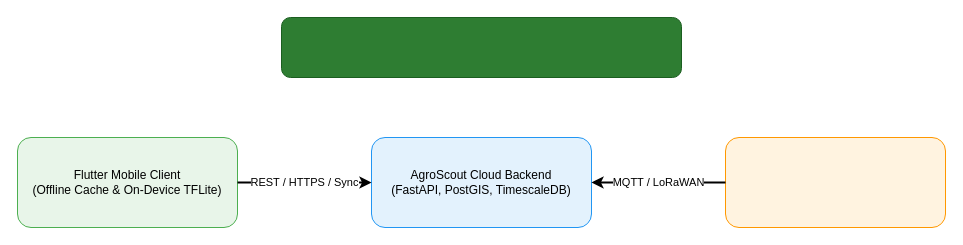
Some shapes in this 963 by 245 pixel diagram are drawn without their labels. Each missing label, with the centre of its shape:
"Cross-Track Integration Architecture" belongs at point 481,47.
"Edge IoT Rover & Sensors (ESP32, CM4, Multispectral Cam)" belongs at point 835,182.
